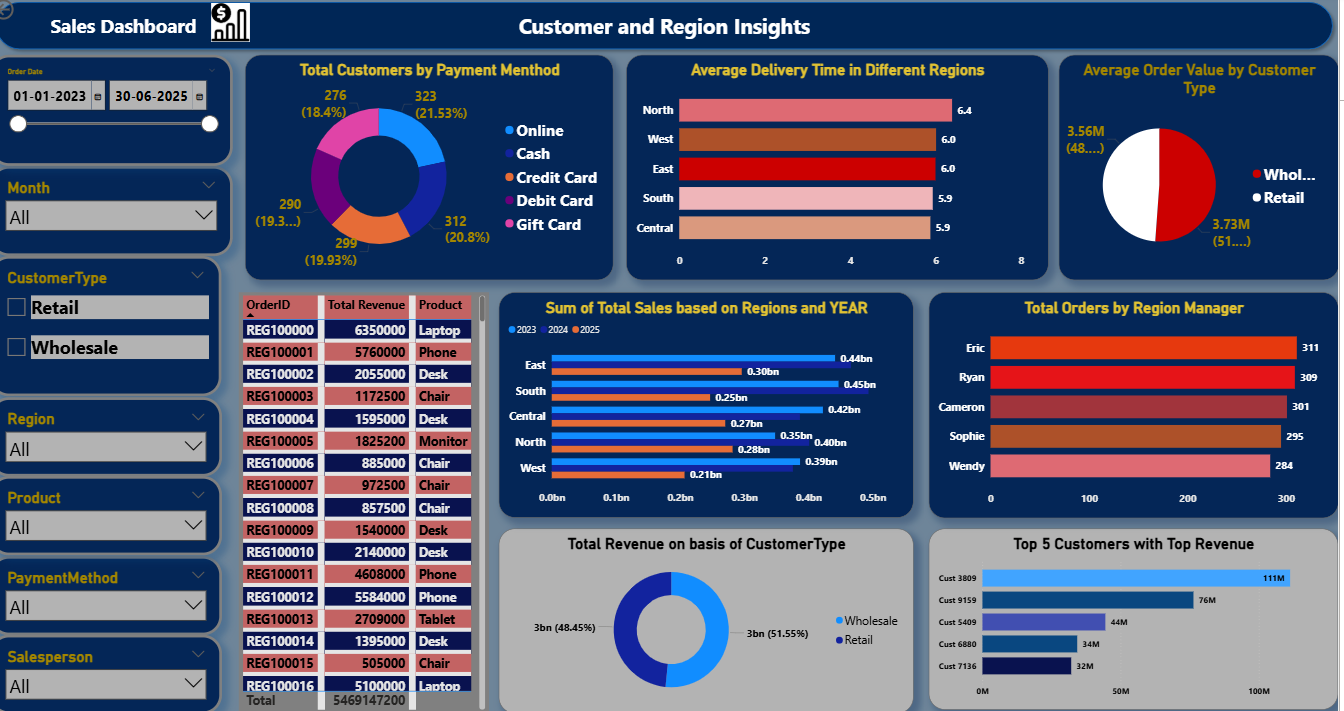

This screenshot's page, from the dashboard's own definition file:
{"tool":"powerbi","page":{"name":"Customer and Region Insights","canvas":[2000,1065],"ordinal":2},"visuals":[{"type":"shape","box":[0,0,2000.4,87.9],"z":0},{"type":"slicer","fields":{"Values":["Sales Dump.Order Date.Variation.Date Hierarchy.Month"]},"box":[0,252.1,359.7,133.5],"z":1000},{"type":"slicer","fields":{"Values":["Sales Dump.CustomerType"]},"box":[0,385.9,343.1,208],"z":2000},{"type":"slicer","fields":{"Values":["Sales Dump.Region"]},"box":[0,594.3,344.1,117.8],"z":3000},{"type":"slicer","fields":{"Values":["Sales Dump.PaymentMethod"]},"box":[0,829.9,344.1,117.8],"z":4000},{"type":"slicer","fields":{"Values":["Sales Dump.Product"]},"box":[0,712.1,344.1,117.8],"z":5000},{"type":"slicer","fields":{"Values":["Sales Dump.Salesperson"]},"box":[0,947.2,344.1,117.8],"z":6000},{"type":"slicer","fields":{"Values":["Sales Dump.Order Date"]},"box":[0,87.1,359.7,165],"z":7000},{"type":"donutChart","title":"Total Revenue on basis of  CustomerType","fields":{"Category":["Sales Dump.CustomerType"],"Y":["Sales Dump.Total Revenue"]},"box":[754.7,789,615.4,274.4],"z":8000},{"type":"pieChart","title":"Average Order Value by Customer Type","fields":{"Y":["Sales Dump.Average_Order_Value"],"Category":["Sales Dump.CustomerType"]},"box":[1584.3,87.2,416.1,334.3],"z":9000},{"type":"clusteredBarChart","title":"Top 5 Customers with Top Revenue","fields":{"Category":["Sales Dump.CustomerName"],"Y":["Sales Dump.Total Revenue"]},"box":[1392.9,789.4,607.2,268.6],"z":10000},{"type":"tableEx","fields":{"Values":["Sales Dump.OrderID","Sales Dump.Total Revenue","Sales Dump.Product"]},"box":[368.8,439.5,370.9,623.9],"z":11000},{"type":"actionButton","box":[0,0,100,40],"z":12000},{"type":"donutChart","title":"Total Customers by Payment Menthod","fields":{"Category":["Sales Dump.PaymentMethod"],"Y":["Sales Dump.CustomerType"]},"box":[377.4,87.9,546.7,334.5],"z":13000},{"type":"clusteredBarChart","title":"Sum of Total Sales based on  Regions and YEAR","fields":{"Category":["Sales Dump.Region"],"Series":["Sales Dump.YEAR"],"Y":["Sales Dump.TotalPrice"]},"box":[754.7,439.5,615.4,334.5],"z":14000},{"type":"clusteredBarChart","title":"Total Orders by Region Manager","fields":{"Category":["Sales Dump.RegionManager"],"Y":["Sales Dump.Total Orders"]},"box":[1392.3,439.4,608.1,335.6],"z":15000},{"type":"clusteredBarChart","title":"Average Delivery Time in Different Regions","fields":{"Category":["Sales Dump.Region"],"Y":["Sales Dump.Average_delivery_time(Day)"]},"box":[943.4,87.9,626.1,334.5],"z":16000},{"type":"actionButton","box":[41.8,12.7,310.7,60],"z":17000},{"type":"image","box":[321.6,5.5,72.7,67.2],"z":18000}]}

Visuals, with their boxes in screenshot pixels (x1, y1, x2, y2), scaled from the page's 2000x1065 canvas onto the 1344x711 screenshot:
shape: BBox(0, 0, 1343, 59)
slicer - Sales Dump.Order Date.Variation.Date Hierarchy.Month: BBox(0, 168, 242, 257)
slicer - Sales Dump.CustomerType: BBox(0, 258, 231, 396)
slicer - Sales Dump.Region: BBox(0, 397, 231, 475)
slicer - Sales Dump.PaymentMethod: BBox(0, 554, 231, 633)
slicer - Sales Dump.Product: BBox(0, 475, 231, 554)
slicer - Sales Dump.Salesperson: BBox(0, 632, 231, 710)
slicer - Sales Dump.Order Date: BBox(0, 58, 242, 168)
"Total Revenue on basis of  CustomerType" donutChart: BBox(507, 527, 921, 710)
"Average Order Value by Customer Type" pieChart: BBox(1065, 58, 1343, 281)
"Top 5 Customers with Top Revenue" clusteredBarChart: BBox(936, 527, 1343, 706)
tableEx - Sales Dump.OrderID x Sales Dump.Total Revenue: BBox(248, 293, 497, 710)
actionButton: BBox(0, 0, 67, 27)
"Total Customers by Payment Menthod" donutChart: BBox(254, 59, 621, 282)
"Sum of Total Sales based on  Regions and YEAR" clusteredBarChart: BBox(507, 293, 921, 517)
"Total Orders by Region Manager" clusteredBarChart: BBox(936, 293, 1343, 517)
"Average Delivery Time in Different Regions" clusteredBarChart: BBox(634, 59, 1055, 282)
actionButton: BBox(28, 8, 237, 49)
image: BBox(216, 4, 265, 49)
